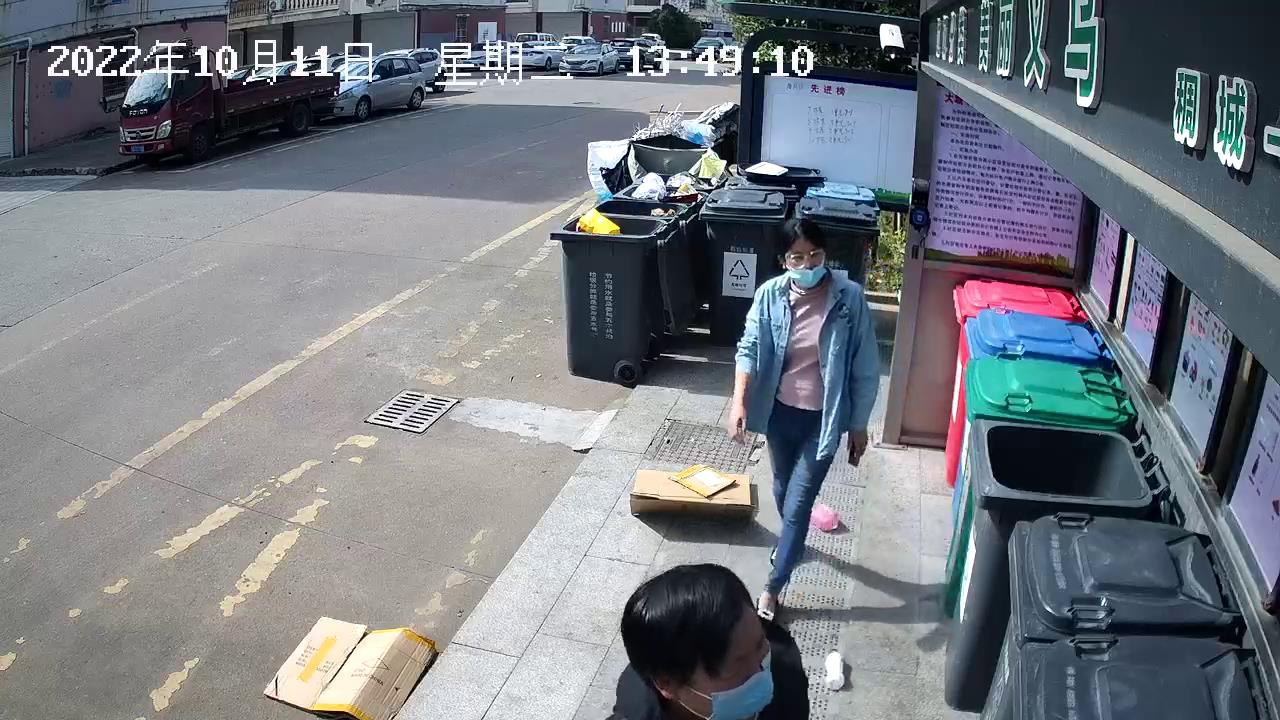person: (590, 559, 820, 720)
suliaozhipin: (820, 641, 849, 695)
worker: (717, 214, 888, 614)
zhizhipin: (261, 612, 442, 720), (625, 463, 760, 526)
